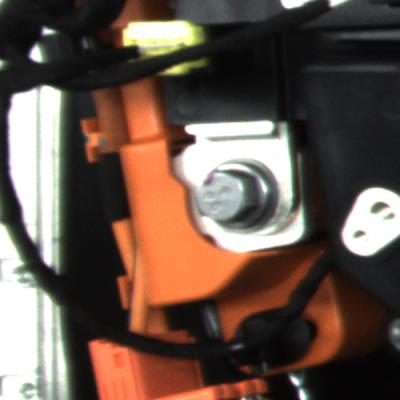nut_b: (190, 150, 284, 231)
